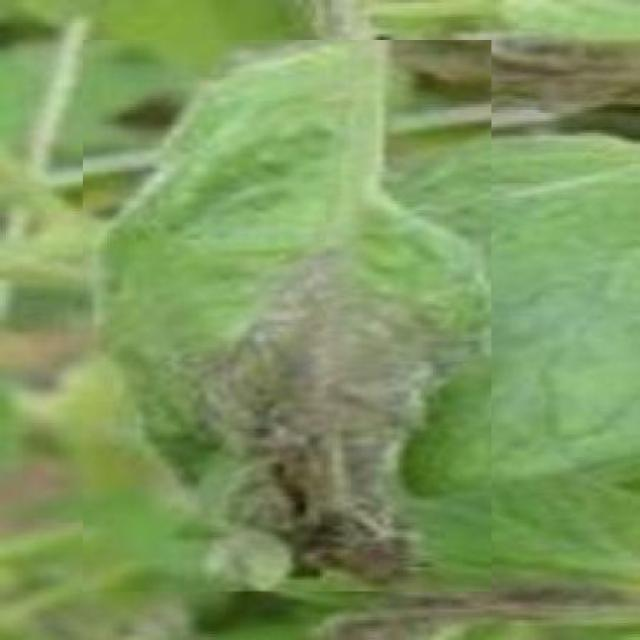Late Blight: (83, 41, 491, 592)
